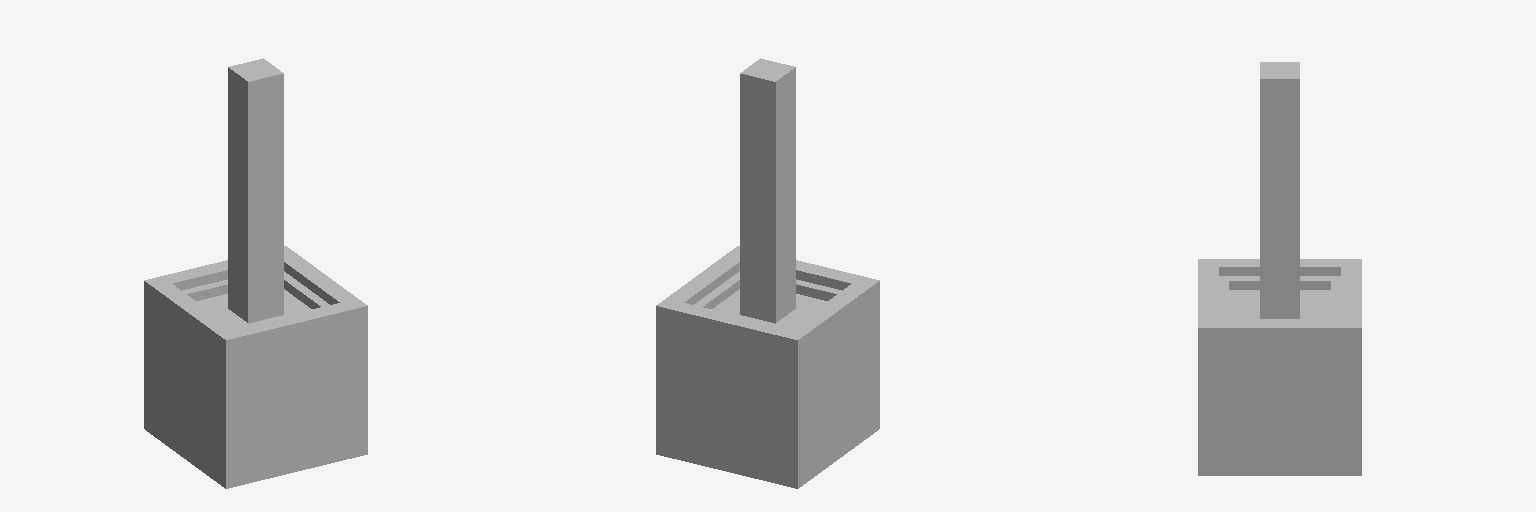
Rendered from dispenser.obj.
3 views of the same model, side by side, from view 1: azimuth 30°, elevation 25°; view 2: azimuth 150°, elevation 25°; view 3: azimuth 270°, elevation 25° (orthographic).
Parts seen in each view (by area): view 1: ObjObject.011; view 2: ObjObject.011; view 3: ObjObject.011.
Part boxes in pixels (left/top/right/bottom): ObjObject.011: left=144, top=58, right=367, bottom=488; ObjObject.011: left=656, top=58, right=879, bottom=488; ObjObject.011: left=1198, top=62, right=1361, bottom=475.
Bounding box in the file's own units: 1.6 × 4 × 1.6.